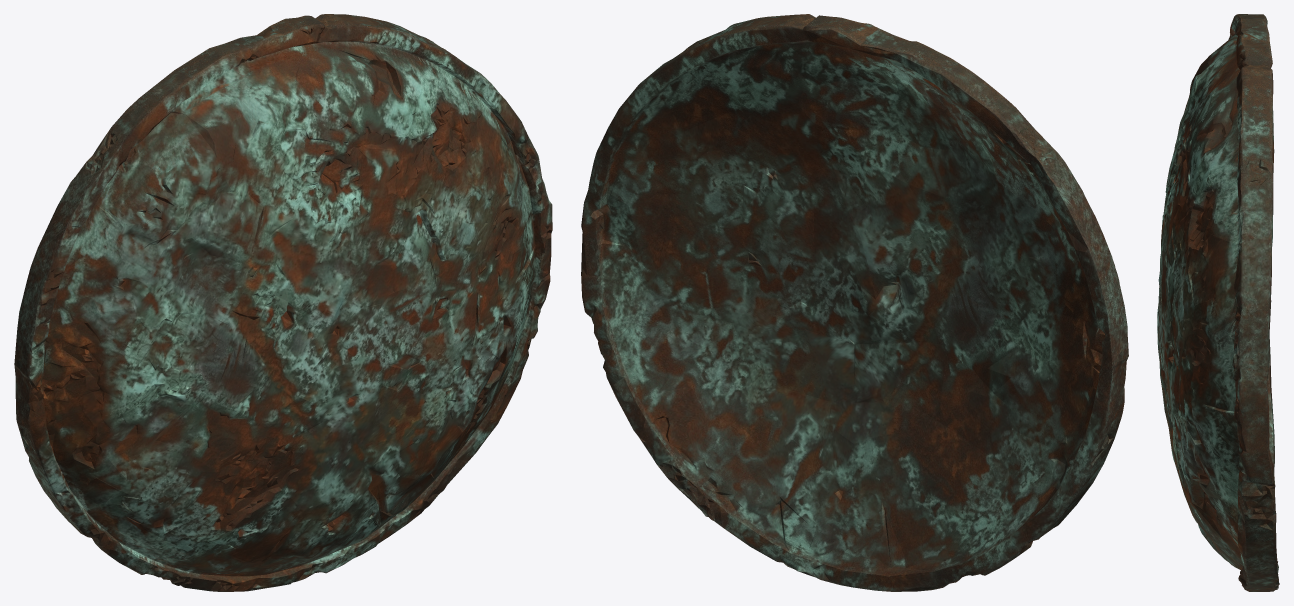
Rendered from skeleton_shield.glb.
3 views of the same model, side by side, from view 1: azimuth 30°, elevation 25°; view 2: azimuth 150°, elevation 25°; view 3: azimuth 270°, elevation 25° (orthographic). The views are drawn at different scales.
Parts seen in each view (by area): view 1: Mesh_0; view 2: Mesh_0; view 3: Mesh_0.
Part boxes in pixels (box(x1,y1,x2,y2)): Mesh_0: box(14, 14, 552, 591); Mesh_0: box(581, 14, 1128, 591); Mesh_0: box(1157, 14, 1279, 591).
Bounding box in the file's own units: 1.9 × 1.9 × 0.402.
Materials: 1 (1 with a texture image).
